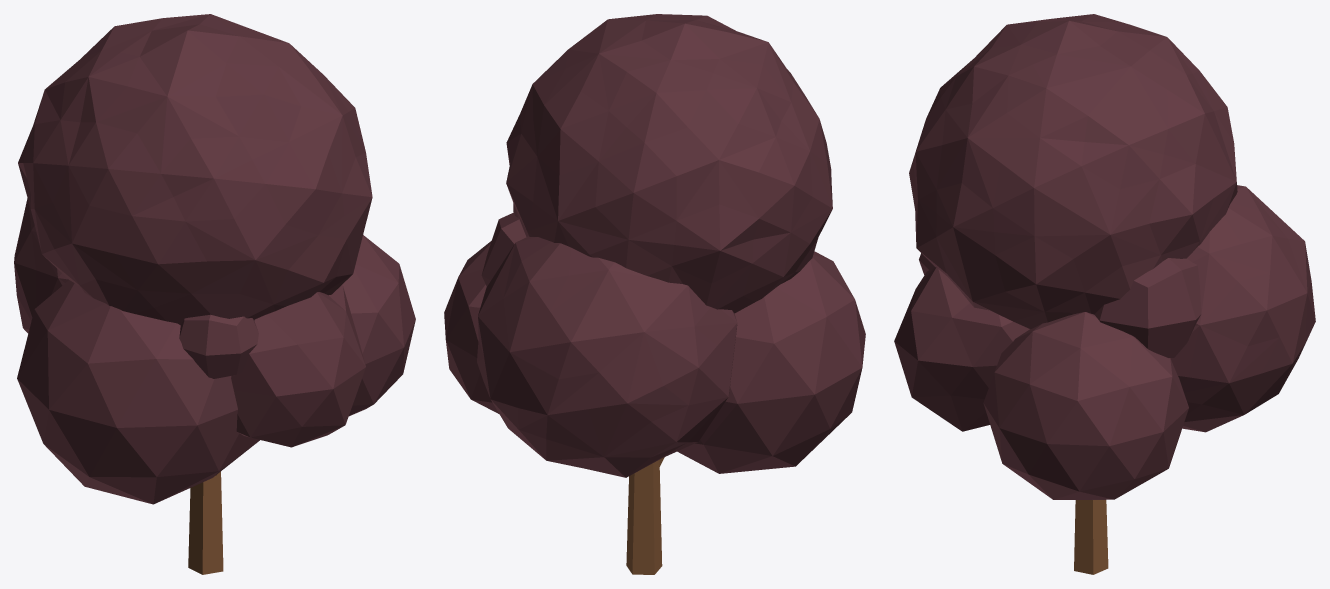
Rendered from tree-lime_red.fbx.
3 views of the same model, side by side, from view 1: azimuth 30°, elevation 25°; view 2: azimuth 150°, elevation 25°; view 3: azimuth 270°, elevation 25° (orthographic). The views are drawn at different scales.
Parts seen in each view (by area): view 1: tree-lime_red; view 2: tree-lime_red; view 3: tree-lime_red.
Boxes of the visible parts, x1,y1,x2,y2 form: tree-lime_red: (14, 14, 415, 574); tree-lime_red: (444, 14, 865, 574); tree-lime_red: (894, 14, 1315, 574).
Size of the model in its own units: 7.25 by 10 by 7.18.
